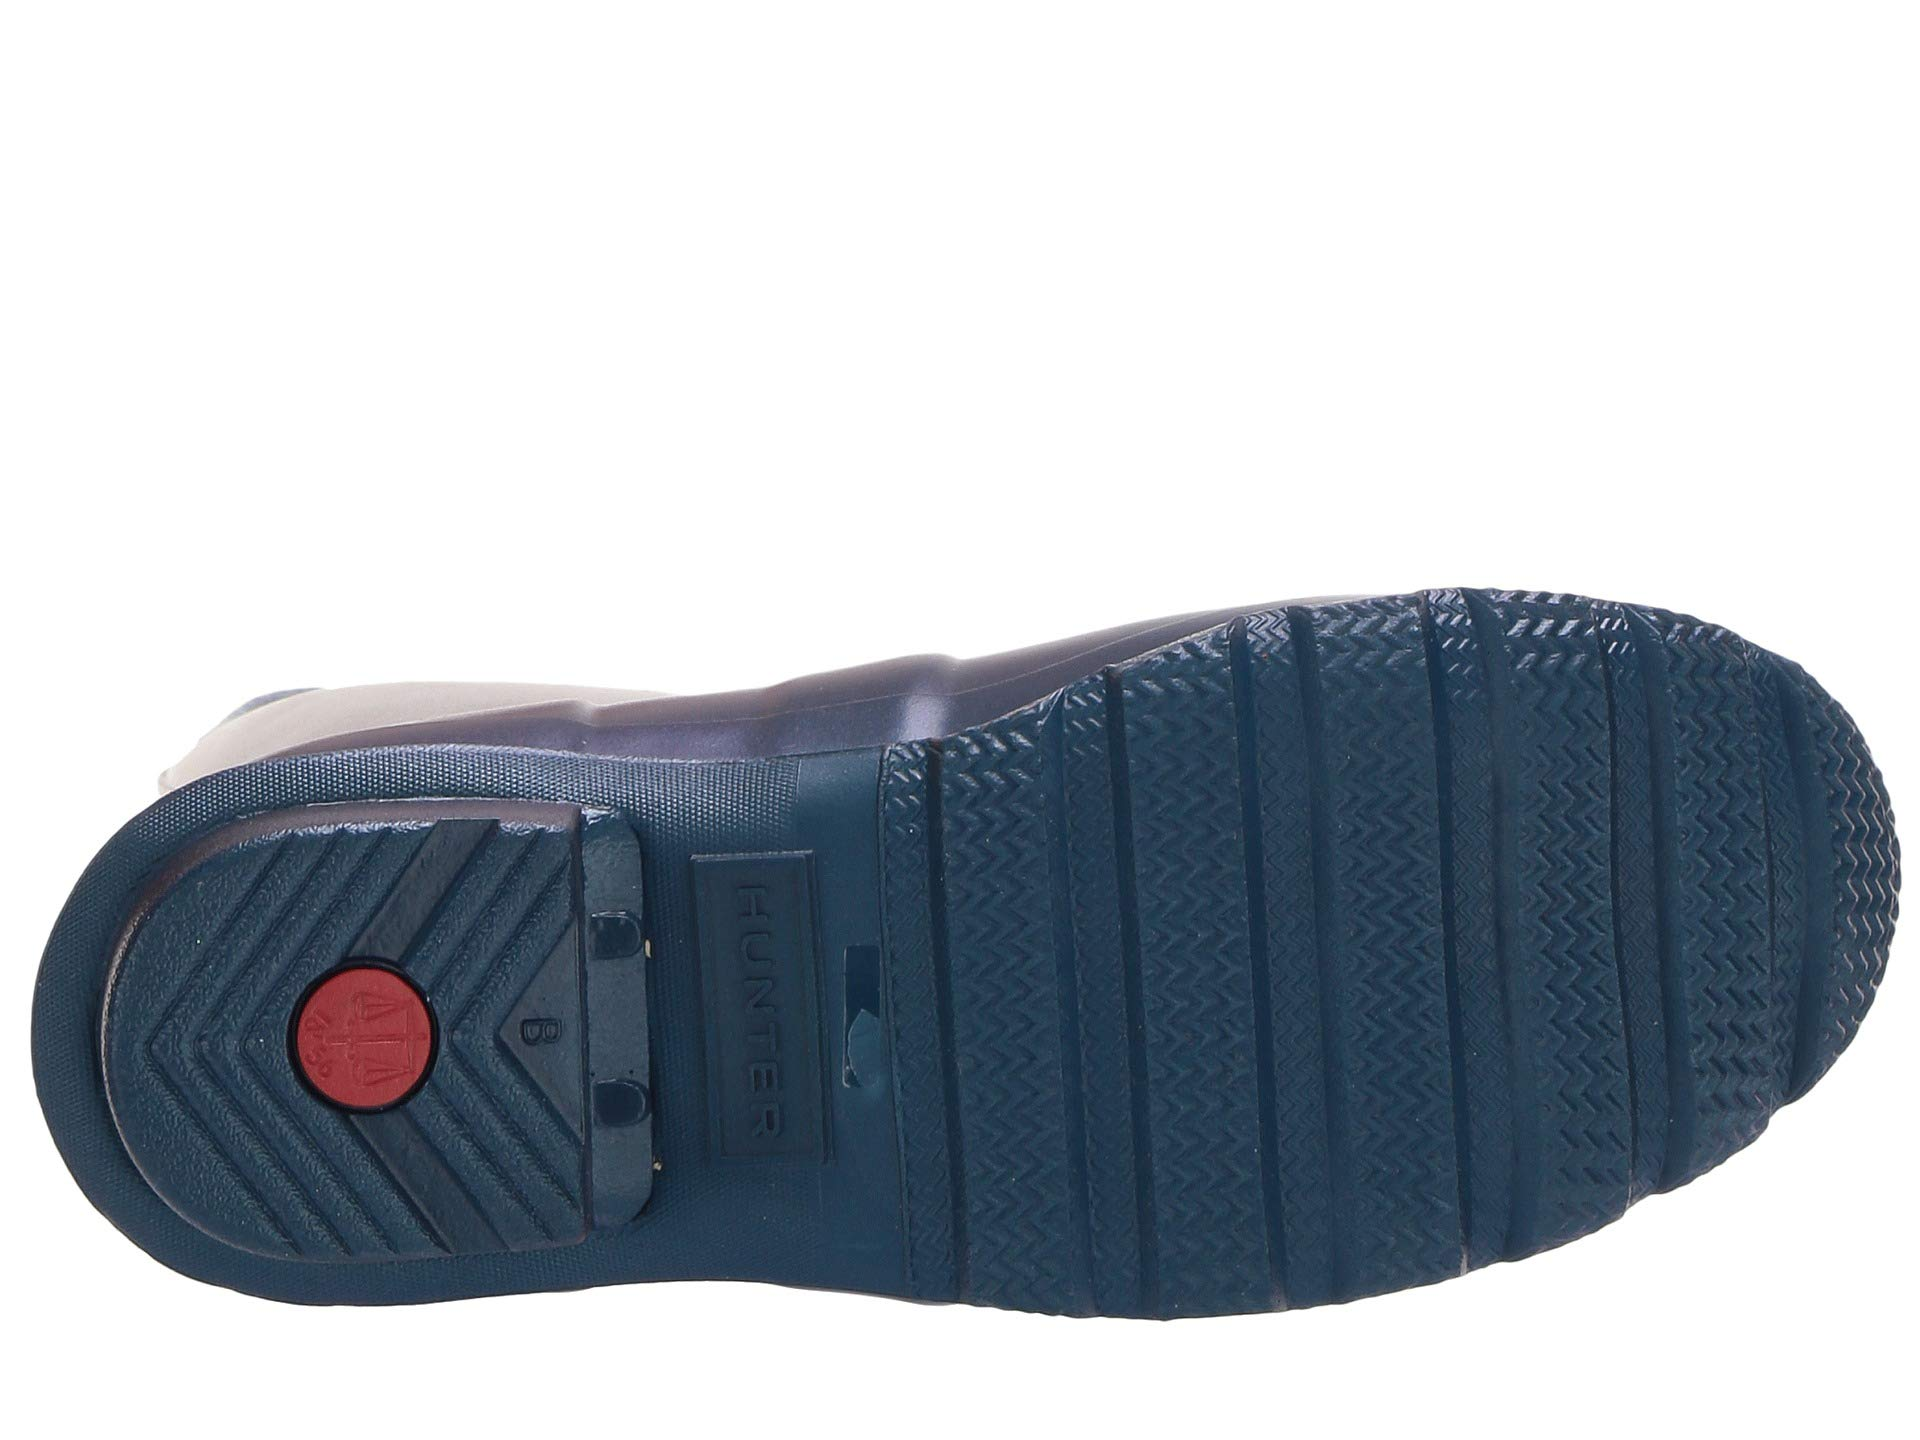chevron: (1005, 726, 1476, 1169), (119, 885, 522, 1236)
circle: (119, 885, 522, 1236)
line: (1005, 726, 1476, 1169)
quad: (639, 827, 989, 1181)
text: (119, 885, 522, 1236), (639, 827, 989, 1181)
